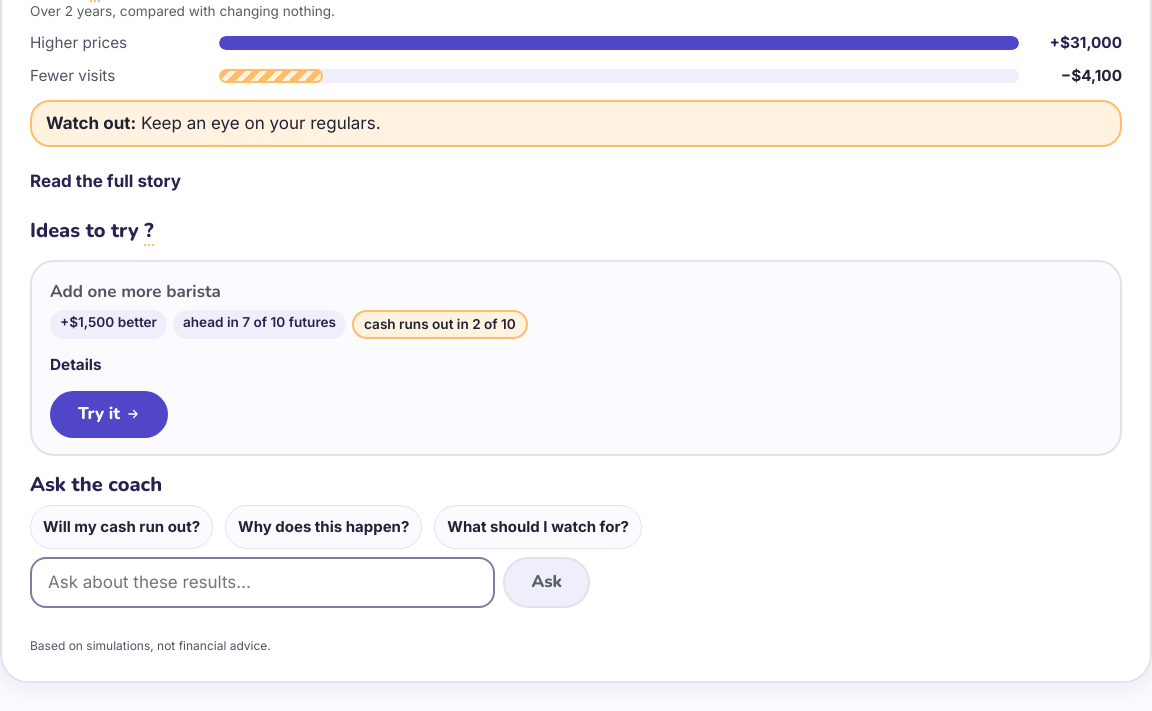
Test: CoachCard › answers a typed question at once, as a chat bubble, and the box stays usable
(page scrolled)
Type "Will my cash run out?" into the field named "Your question".
click(263, 582); type("Will my cash run out?")  # box [30,557,496,608]
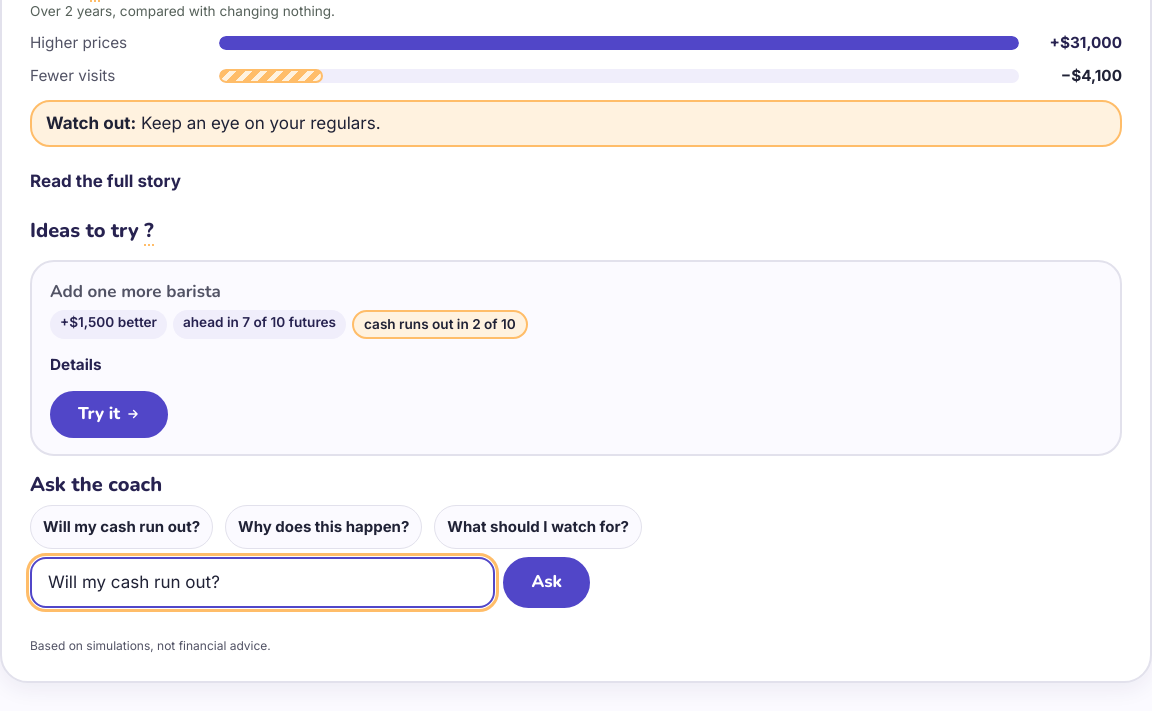
Click the button "Ask".
click(547, 582)  # box [504,557,590,608]
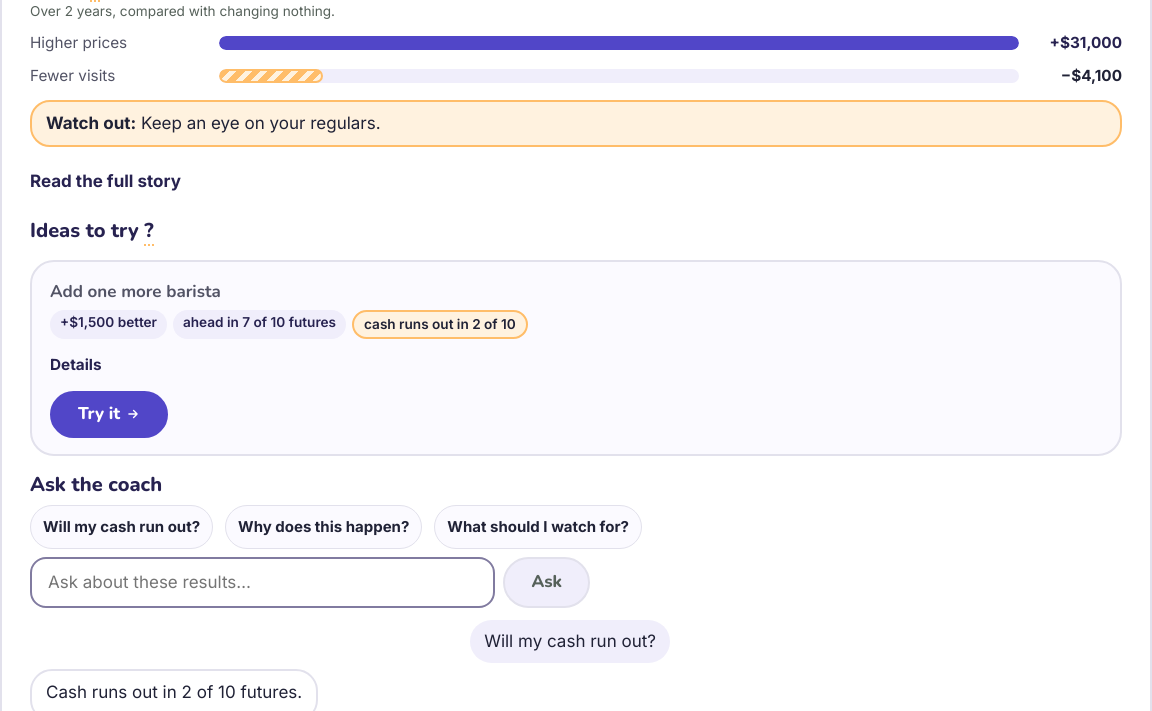
Check: the field named "Your question" is enabled, box [30,557,496,608]
Check: the text "Cash runs out in 2 of 10 futures." is shown, box [46,679,302,706]
